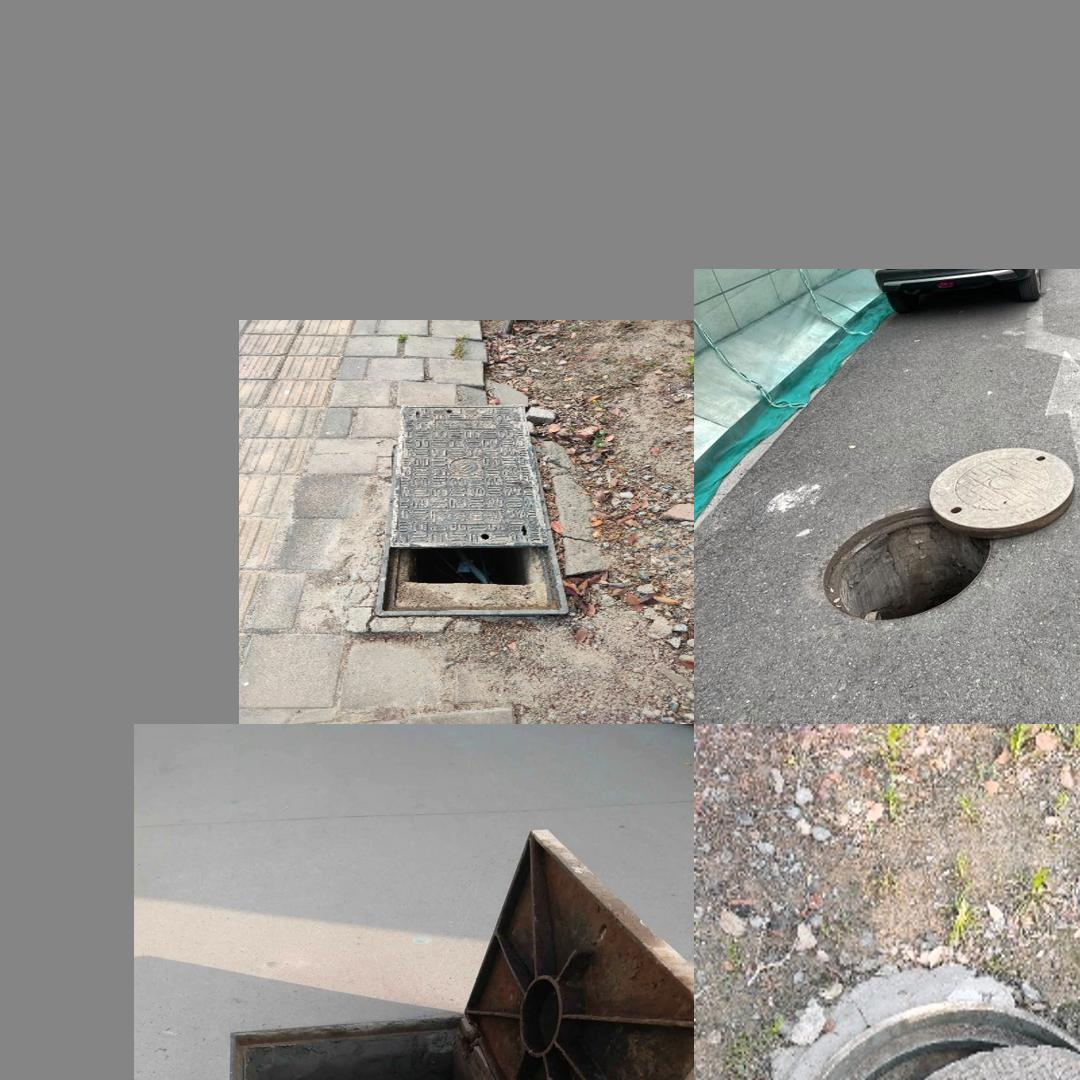uncovered: (231, 828, 694, 1080), (812, 433, 1080, 636), (367, 401, 572, 618), (757, 1003, 1080, 1080)
